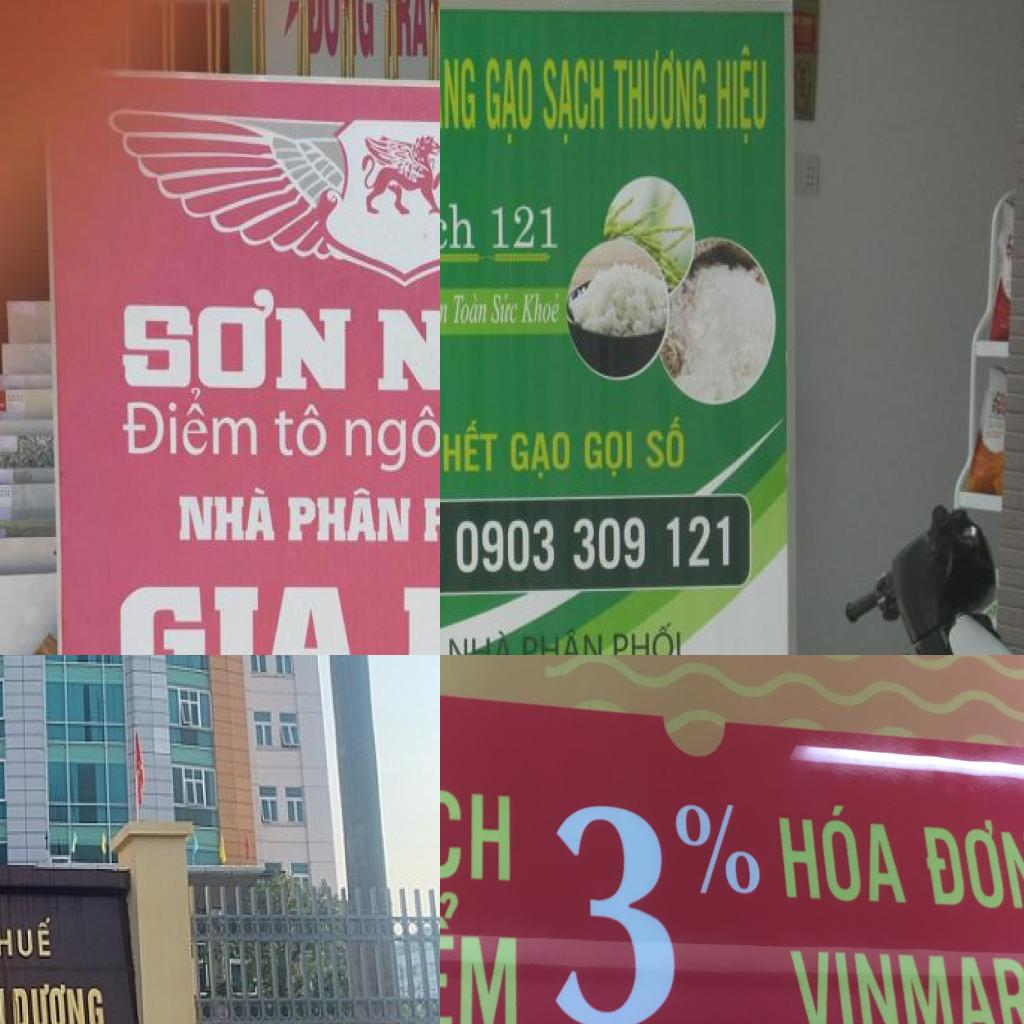text: (541, 781, 678, 1024), (120, 284, 352, 392), (453, 506, 737, 579), (785, 946, 1024, 1024), (117, 585, 366, 655), (774, 802, 912, 908), (671, 789, 765, 909), (916, 813, 1024, 914), (440, 890, 521, 1024), (122, 386, 259, 460), (440, 766, 515, 888), (610, 50, 710, 140), (286, 487, 412, 545), (343, 401, 440, 476), (541, 52, 609, 149), (714, 43, 772, 151), (178, 485, 279, 544), (376, 305, 440, 396), (485, 54, 537, 152), (488, 195, 563, 258), (10, 982, 108, 1024), (440, 39, 481, 137), (506, 424, 574, 482), (440, 416, 501, 478), (440, 179, 478, 273), (581, 426, 640, 484), (273, 402, 328, 462), (607, 618, 687, 655), (640, 415, 691, 473), (0, 914, 55, 960), (520, 626, 606, 655), (442, 623, 515, 655), (397, 0, 431, 60), (308, 0, 342, 58), (520, 287, 563, 327), (450, 289, 489, 330), (489, 289, 522, 330), (357, 0, 376, 60), (440, 290, 450, 329)
